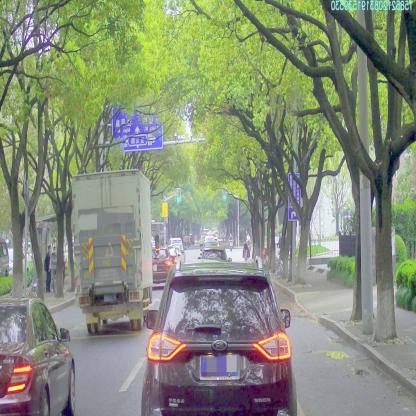traffic-light: (223, 187, 226, 199), (178, 188, 180, 202)
